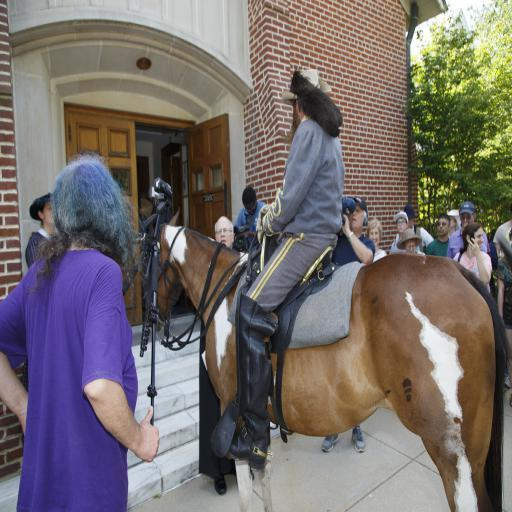horse: (144, 208, 512, 512)
